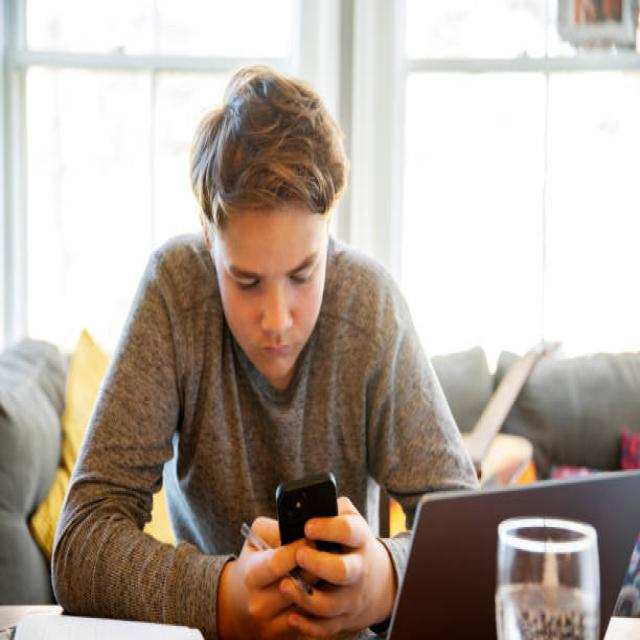Distracted: (217, 204, 329, 383)
